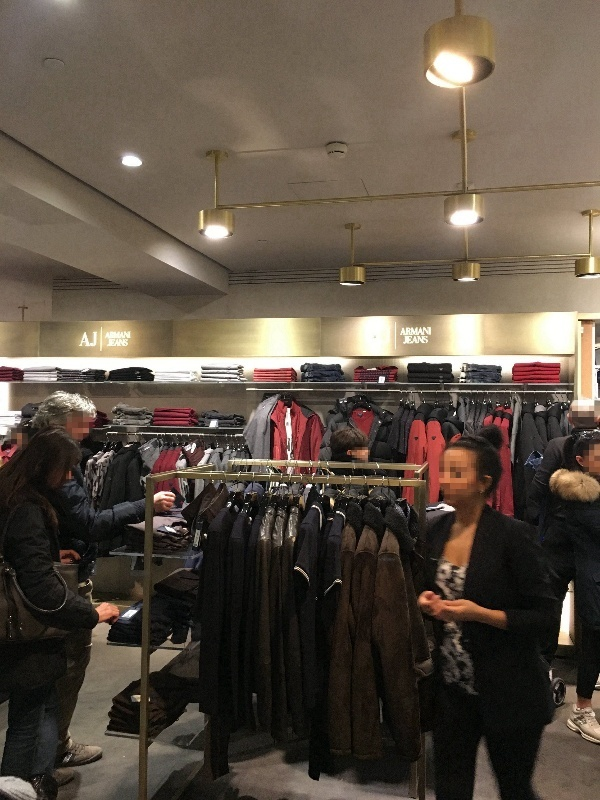text: (84, 331, 96, 348), (113, 331, 128, 340), (417, 327, 432, 336), (403, 335, 416, 345), (113, 339, 129, 347), (417, 335, 429, 345), (403, 327, 416, 336), (107, 331, 112, 340), (107, 339, 112, 347), (129, 331, 131, 340), (97, 331, 98, 348)
